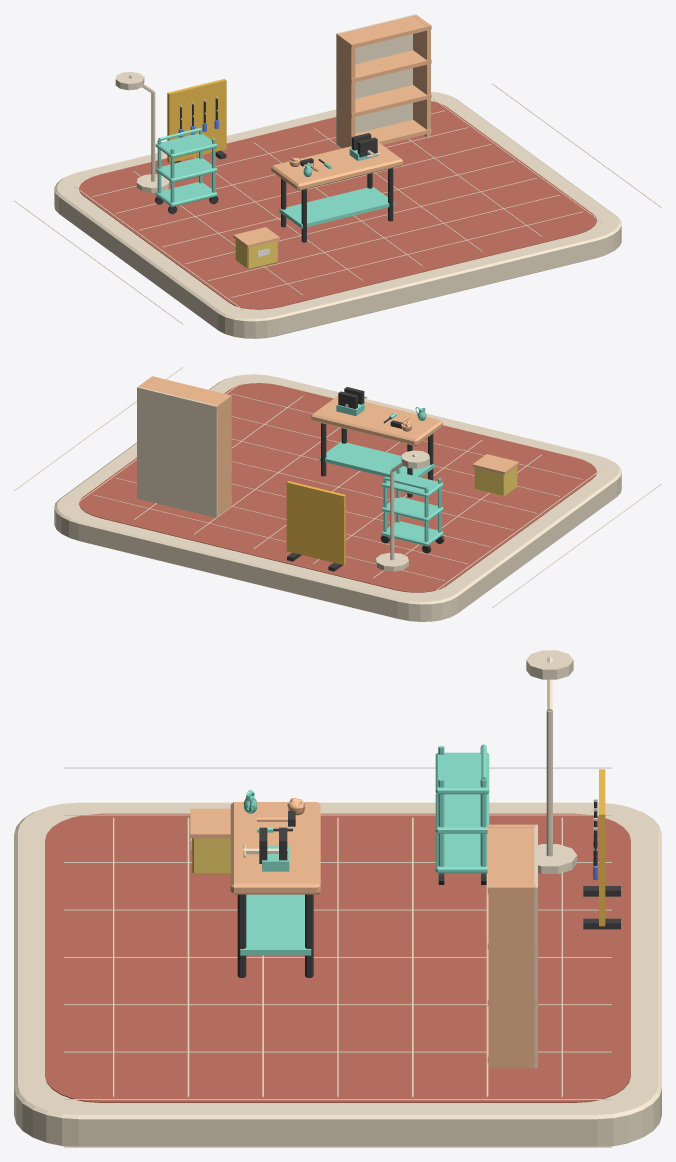
File: room.fbx
The picture shows the model from 3 angles, top to bottom: view 1: azimuth 30°, elevation 25°; view 2: azimuth 150°, elevation 25°; view 3: azimuth 270°, elevation 25°; orthographic projection. The views are drawn at different scales.
Visible parts, largest first — view 1: COM-02 Floor Surface, COM-01 Rounded Base Direct, Back, Panel, Worktop, Lower shelf, Side, Side.001, Shelf.003, Shelf.002, Shelf.001, Shelf (+5 smaller); view 2: COM-02 Floor Surface, COM-01 Rounded Base Direct, Back, Panel, Worktop, Lower shelf, Side, Shelf.003, Box, Tray, Tray.001, Tray.002 (+4 smaller); view 3: COM-02 Floor Surface, COM-01 Rounded Base Direct, Side.001, Worktop, Lower shelf, Shelf.003, Tray.002, Tray.001, Tray, Box, Lid, Lamp head (+12 smaller).
Boxes of the visible parts, x1,y1,x2,y2 form: COM-02 Floor Surface: (79, 101, 596, 309); COM-01 Rounded Base Direct: (54, 91, 621, 338); Back: (336, 14, 416, 144); Panel: (167, 79, 226, 162); Worktop: (271, 142, 403, 190); Lower shelf: (279, 186, 394, 228); Side: (336, 33, 355, 148); Side.001: (413, 15, 430, 136); Shelf.003: (336, 16, 431, 48); Shelf.002: (336, 50, 431, 82); Shelf.001: (336, 85, 431, 117); Shelf: (355, 120, 431, 144); COM-02 Floor Surface: (79, 383, 596, 592); COM-01 Rounded Base Direct: (54, 374, 621, 621); Back: (137, 386, 217, 517); Panel: (286, 481, 345, 564); Worktop: (311, 396, 442, 445); Lower shelf: (319, 441, 434, 477); Side: (214, 395, 231, 516); Shelf.003: (142, 376, 231, 410); Box: (474, 466, 517, 496); Tray: (381, 521, 443, 546); Tray.001: (381, 497, 443, 521); Tray.002: (381, 472, 443, 497); COM-02 Floor Surface: (45, 813, 630, 1102); COM-01 Rounded Base Direct: (14, 802, 661, 1146); Side.001: (488, 884, 535, 1068); Worktop: (230, 802, 320, 894); Lower shelf: (240, 894, 311, 955); Shelf.003: (487, 825, 535, 894); Tray.002: (435, 752, 489, 794); Tray.001: (435, 793, 489, 833); Tray: (435, 833, 487, 873); Box: (192, 838, 230, 874); Lid: (190, 808, 230, 838); Lamp head: (526, 650, 573, 679).
Bounding box in the file's own units: 721 × 196 × 520.
